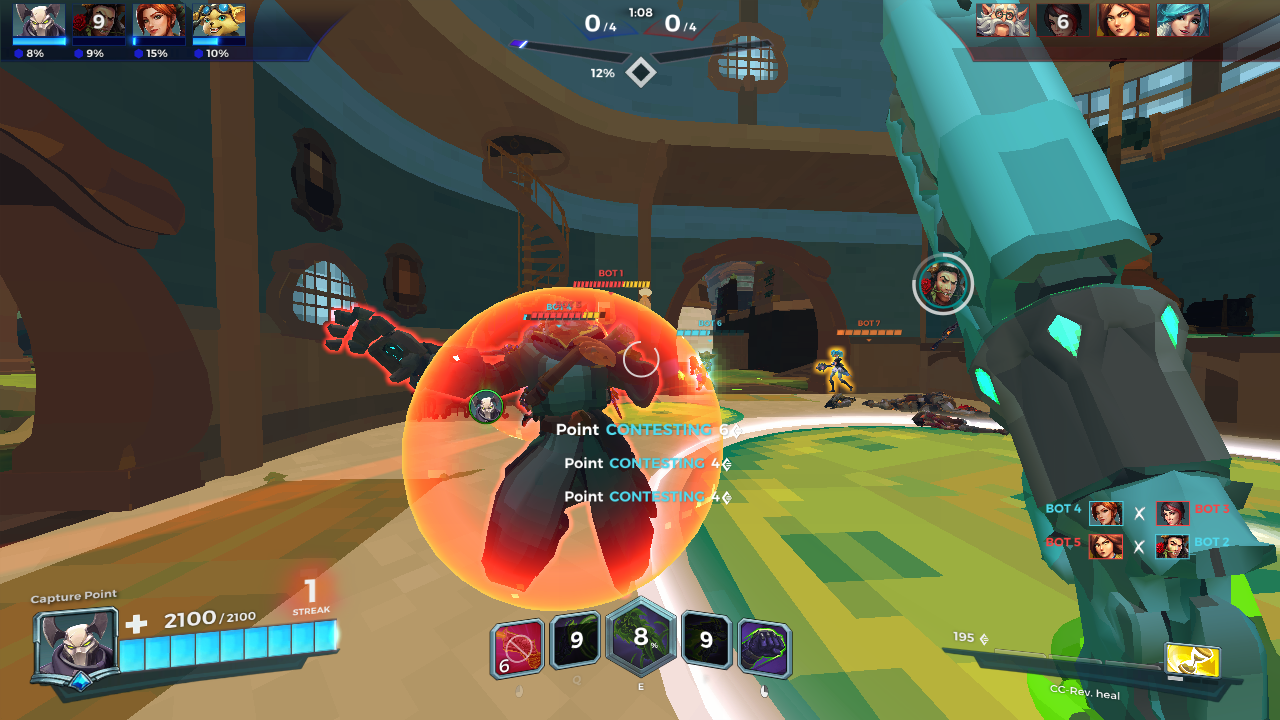model: (316, 294, 658, 592), (810, 342, 865, 402)
